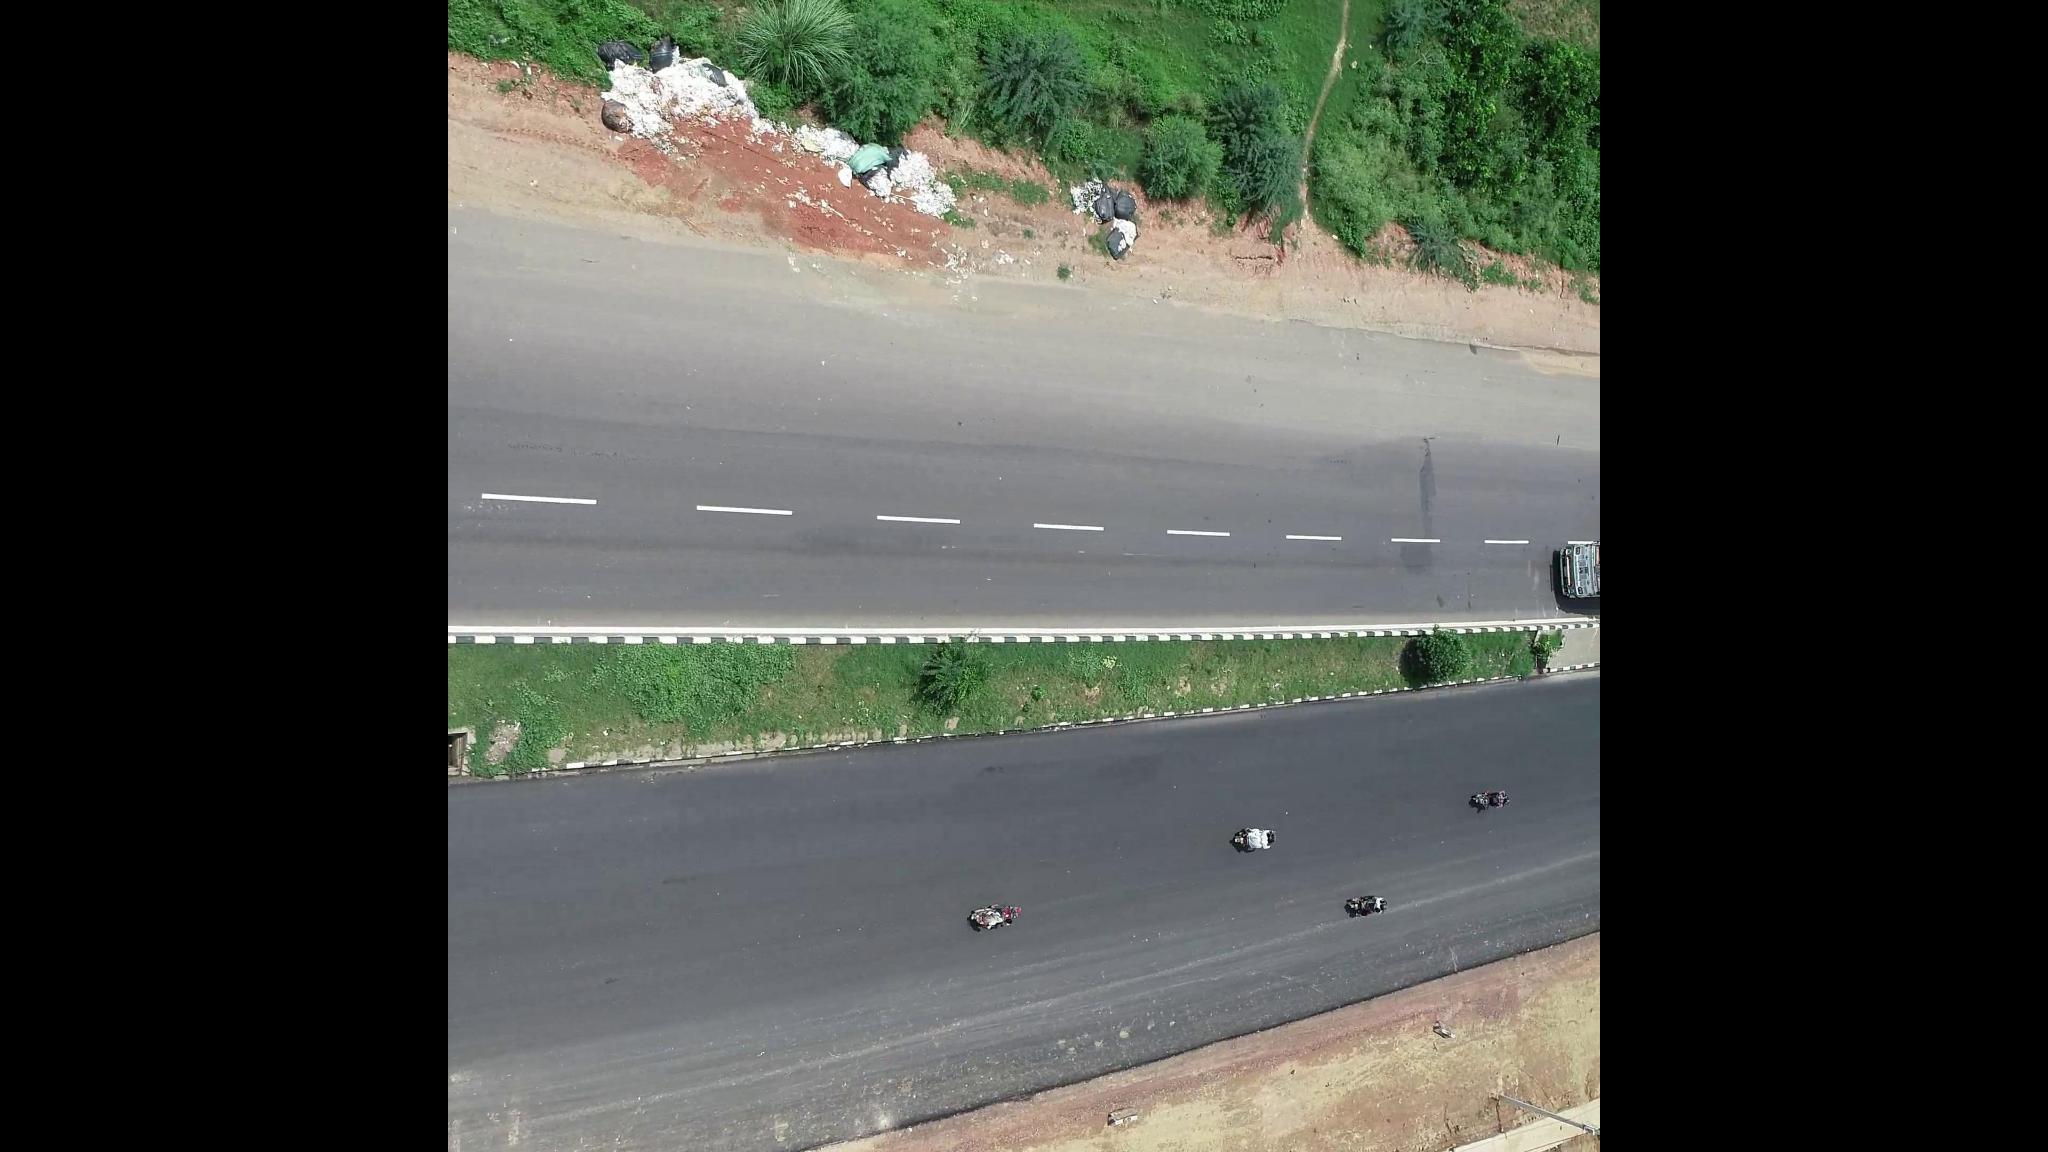Road_side_garbage: (632, 72, 920, 198)
